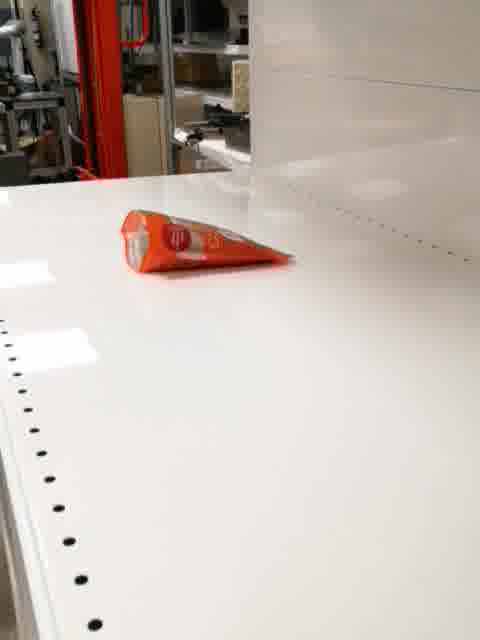whitechia: (117, 204, 298, 278)
